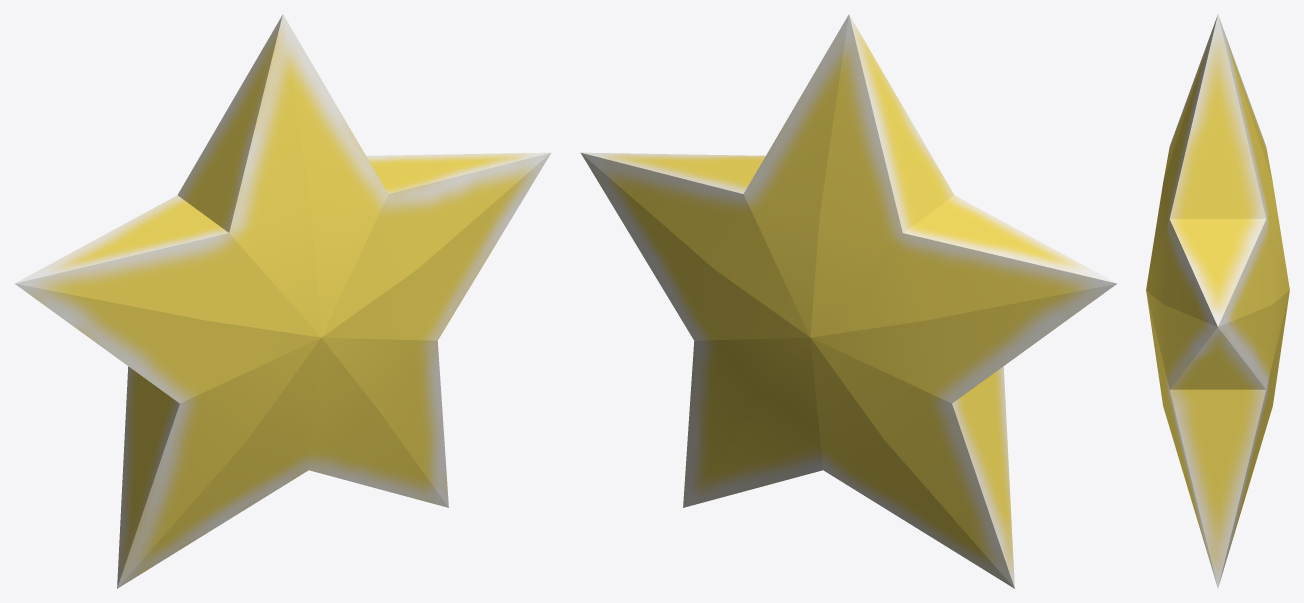
Rendered from ItemStar.fbx.
3 views of the same model, side by side, from view 1: azimuth 30°, elevation 25°; view 2: azimuth 150°, elevation 25°; view 3: azimuth 270°, elevation 25° (orthographic). The views are drawn at different scales.
Parts seen in each view (by area): view 1: item_ster; view 2: item_ster; view 3: item_ster.
Part boxes in pixels (box(x1,y1,x2,y2)): item_ster: box(14, 14, 550, 588); item_ster: box(581, 14, 1117, 588); item_ster: box(1146, 14, 1289, 587).
Size of the model in its own units: 0.2743 by 0.2608 by 0.0681.
1 material, 1 textured.
